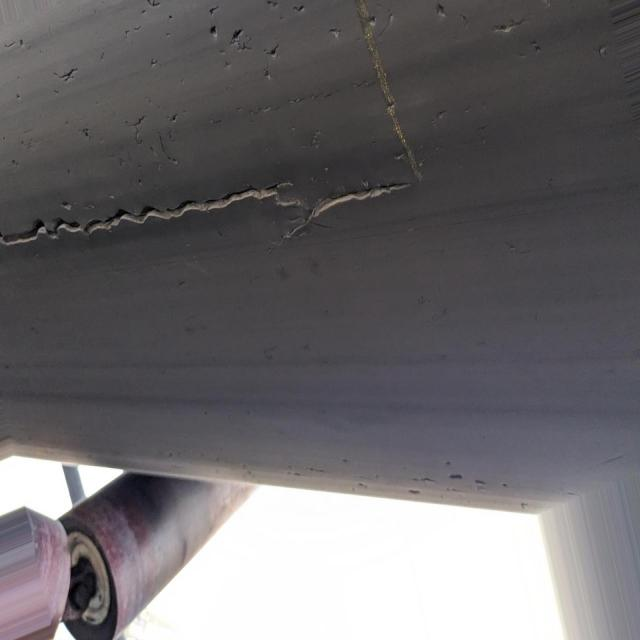Roller: (62, 467, 264, 638)
Tear: (0, 0, 436, 256)
